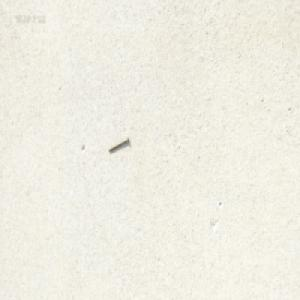Bolt: (108, 135, 129, 152)
